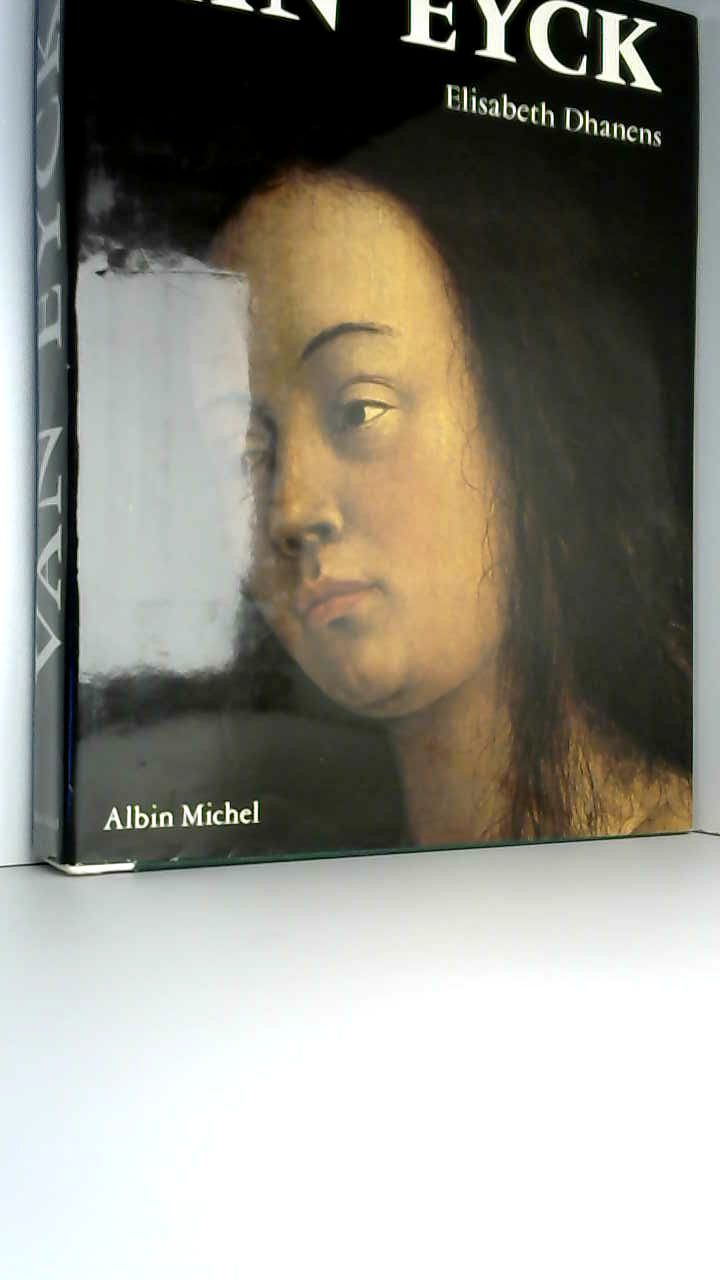book: (9, 0, 709, 900)
